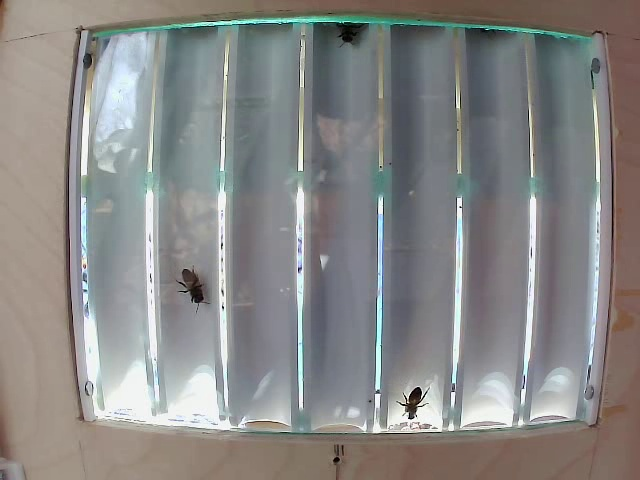bee: (170, 260, 213, 314), (400, 379, 440, 431)
